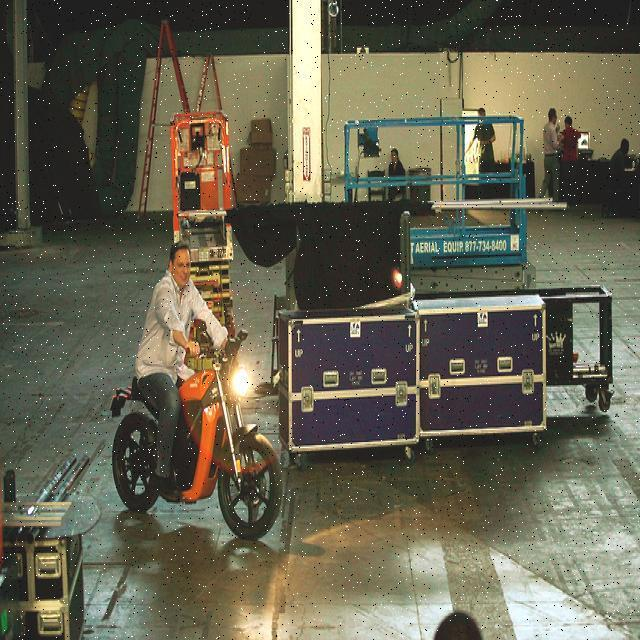motorcycle: (102, 334, 286, 546)
